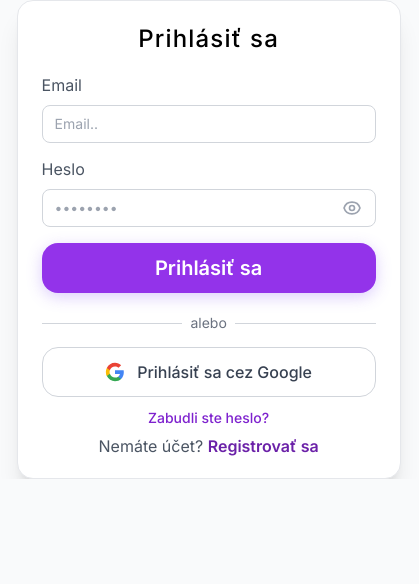
Scenario: LoginForm › distinguishes a failed session verification after Google login
The width and height of the screenshot is (419, 584).
Click the button "Prihlásiť sa cez Google".
click(209, 372)  # box left=42, top=347, right=376, bottom=397
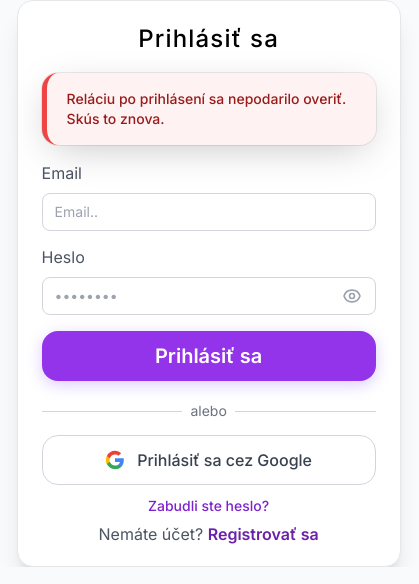
Expected: the button "Prihlásiť sa cez Google" is enabled, left=42, top=435, right=376, bottom=485
Now the message reads "Reláciu po prihlásení sa nepodarilo overiť. Skús to znova.", box left=67, top=90, right=346, bottom=127
